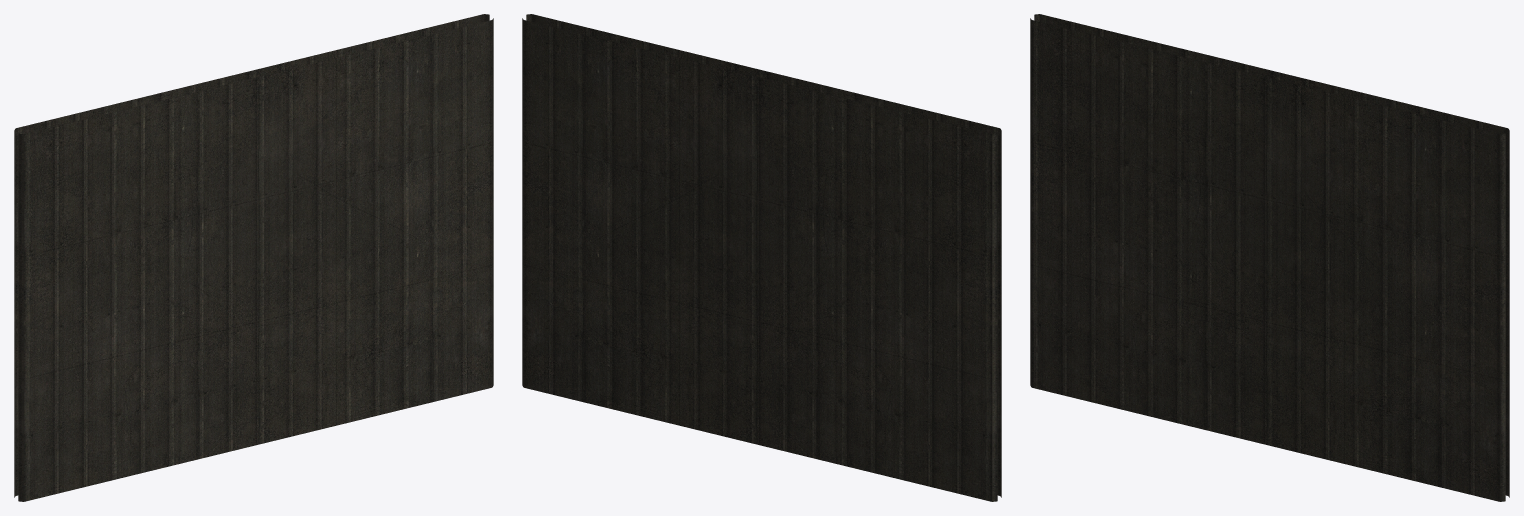
Rendered from wall_1_plain.glb.
The picture shows the model from 3 angles, left to right: view 1: azimuth 30°, elevation 25°; view 2: azimuth 150°, elevation 25°; view 3: azimuth 330°, elevation 25°; orthographic projection.
Parts seen in each view (by area): view 1: wall_1_plain; view 2: wall_1_plain; view 3: wall_1_plain.
Boxes of the visible parts, x1,y1,x2,y2 form: wall_1_plain: [14, 14, 493, 501]; wall_1_plain: [522, 14, 1001, 501]; wall_1_plain: [1030, 14, 1509, 501].
Size of the model in its own units: 4.06 by 3 by 0.12.
Materials: 1 (1 with a texture image).
